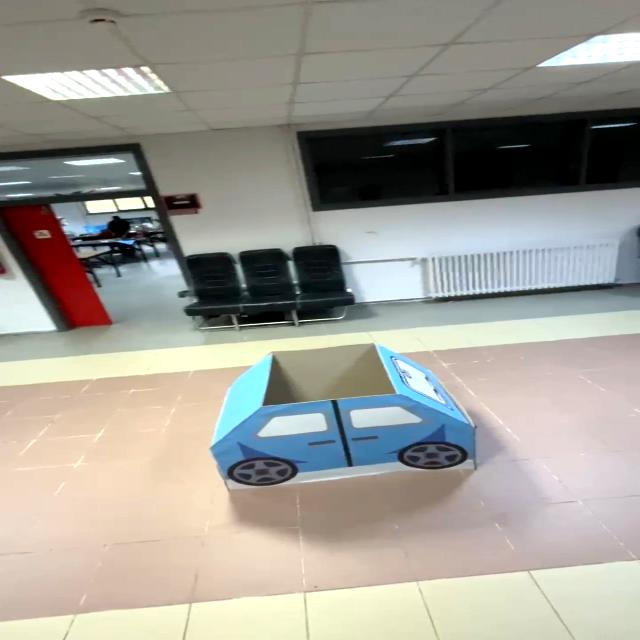blue_car: (171, 334, 509, 504)
